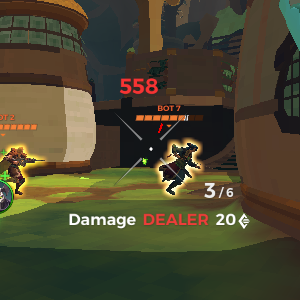model: (153, 134, 201, 198), (3, 141, 34, 187)
